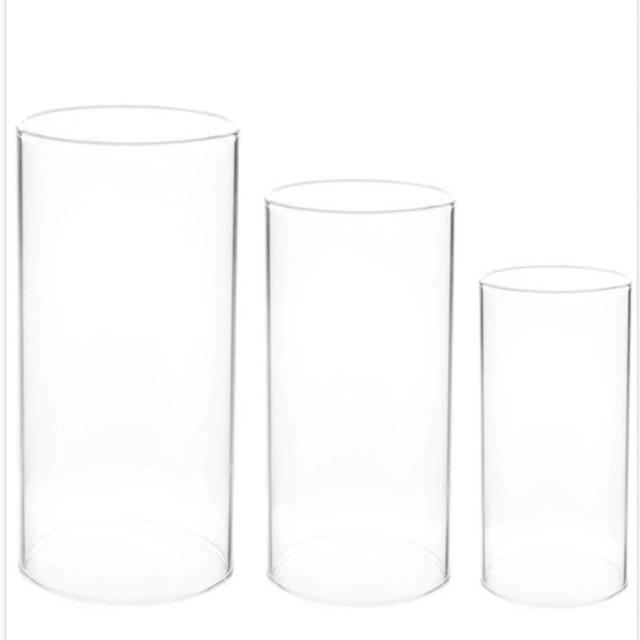recyclable: (11, 92, 255, 620), (247, 168, 464, 618), (471, 247, 640, 620)
